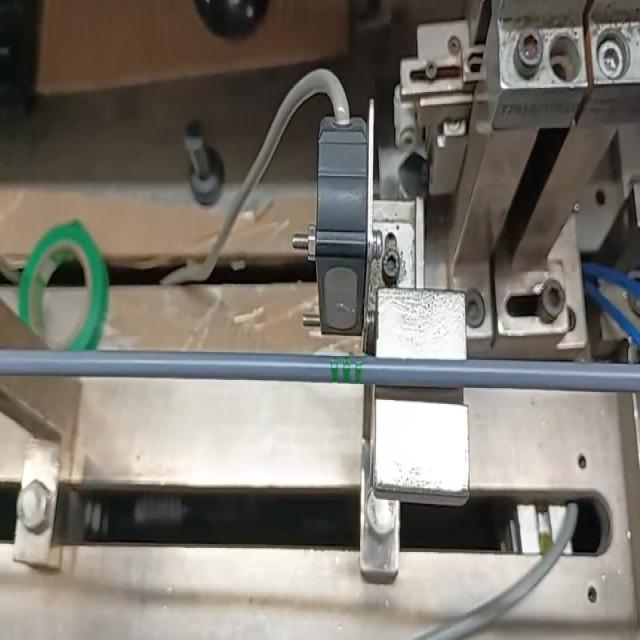green: (330, 356, 363, 385)
